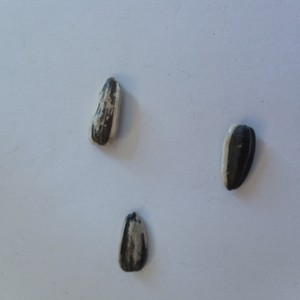girasol: (215, 121, 259, 193), (87, 74, 125, 147), (116, 210, 151, 274)
